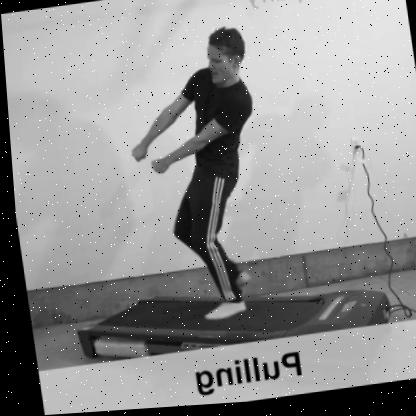person: (141, 5, 295, 322)
